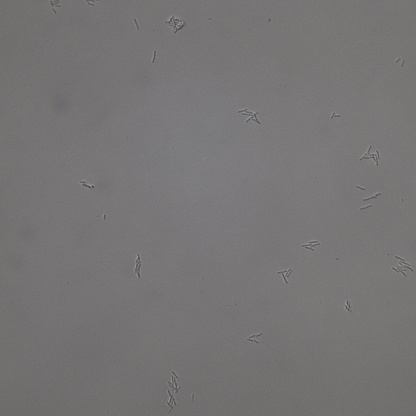R(colony): (393, 255, 415, 277), (361, 145, 381, 166), (237, 108, 261, 124), (277, 267, 293, 284), (246, 330, 264, 344), (165, 393, 178, 411), (169, 371, 180, 392), (302, 240, 321, 252)
